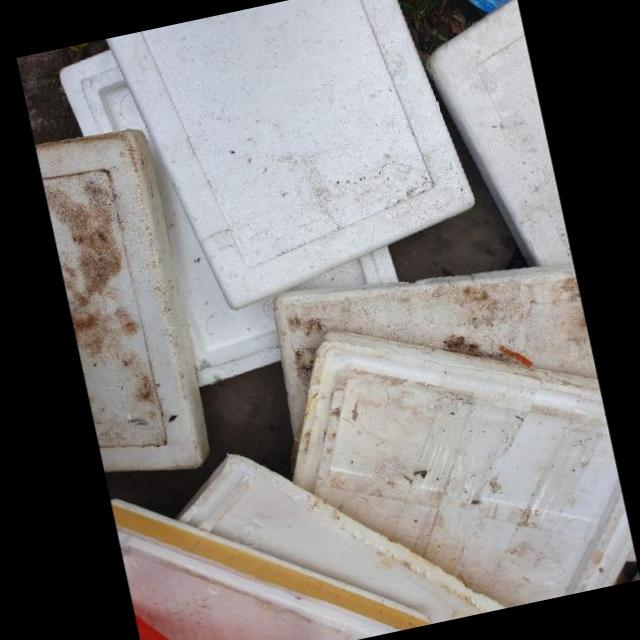xop: (58, 50, 397, 385), (105, 0, 474, 307), (293, 332, 634, 607), (34, 126, 210, 471), (273, 266, 597, 438), (110, 497, 432, 640), (425, 0, 573, 266)
